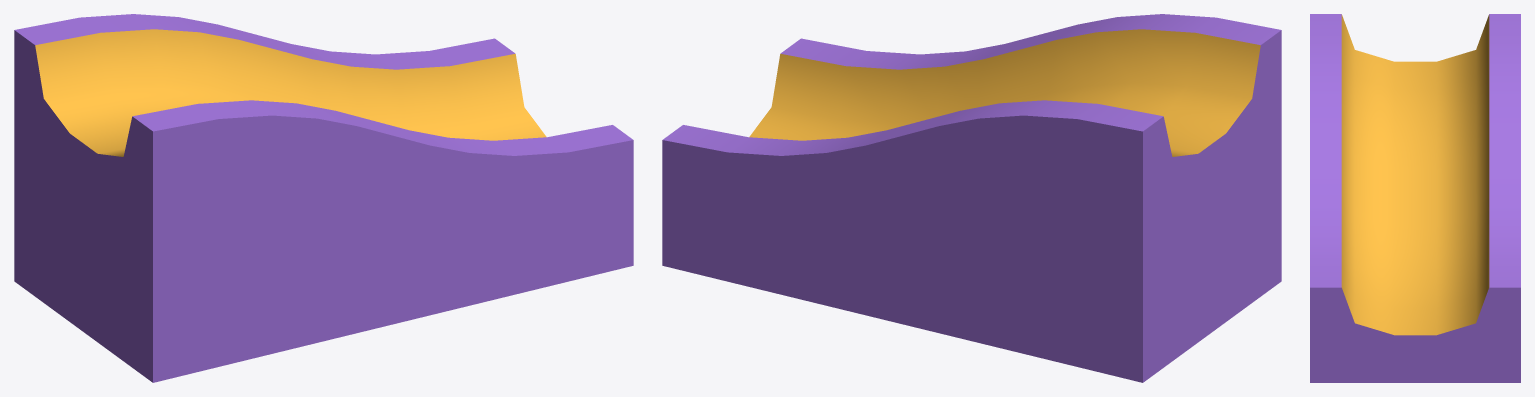
The model's file is ramp-long-solid-b-col.glb.
The picture shows the model from 3 angles, left to right: view 1: azimuth 30°, elevation 25°; view 2: azimuth 150°, elevation 25°; view 3: azimuth 270°, elevation 25°; orthographic projection. The views are drawn at different scales.
Visible parts, largest first — view 1: ramp-long-solid-b-col; view 2: ramp-long-solid-b-col; view 3: ramp-long-solid-b-col.
Part boxes in pixels (bbox=[...]): ramp-long-solid-b-col: bbox=[14, 14, 633, 382]; ramp-long-solid-b-col: bbox=[662, 14, 1281, 382]; ramp-long-solid-b-col: bbox=[1310, 14, 1520, 382].
Bounding box in the file's own units: 2 × 1 × 1.
1 material, 1 textured.
